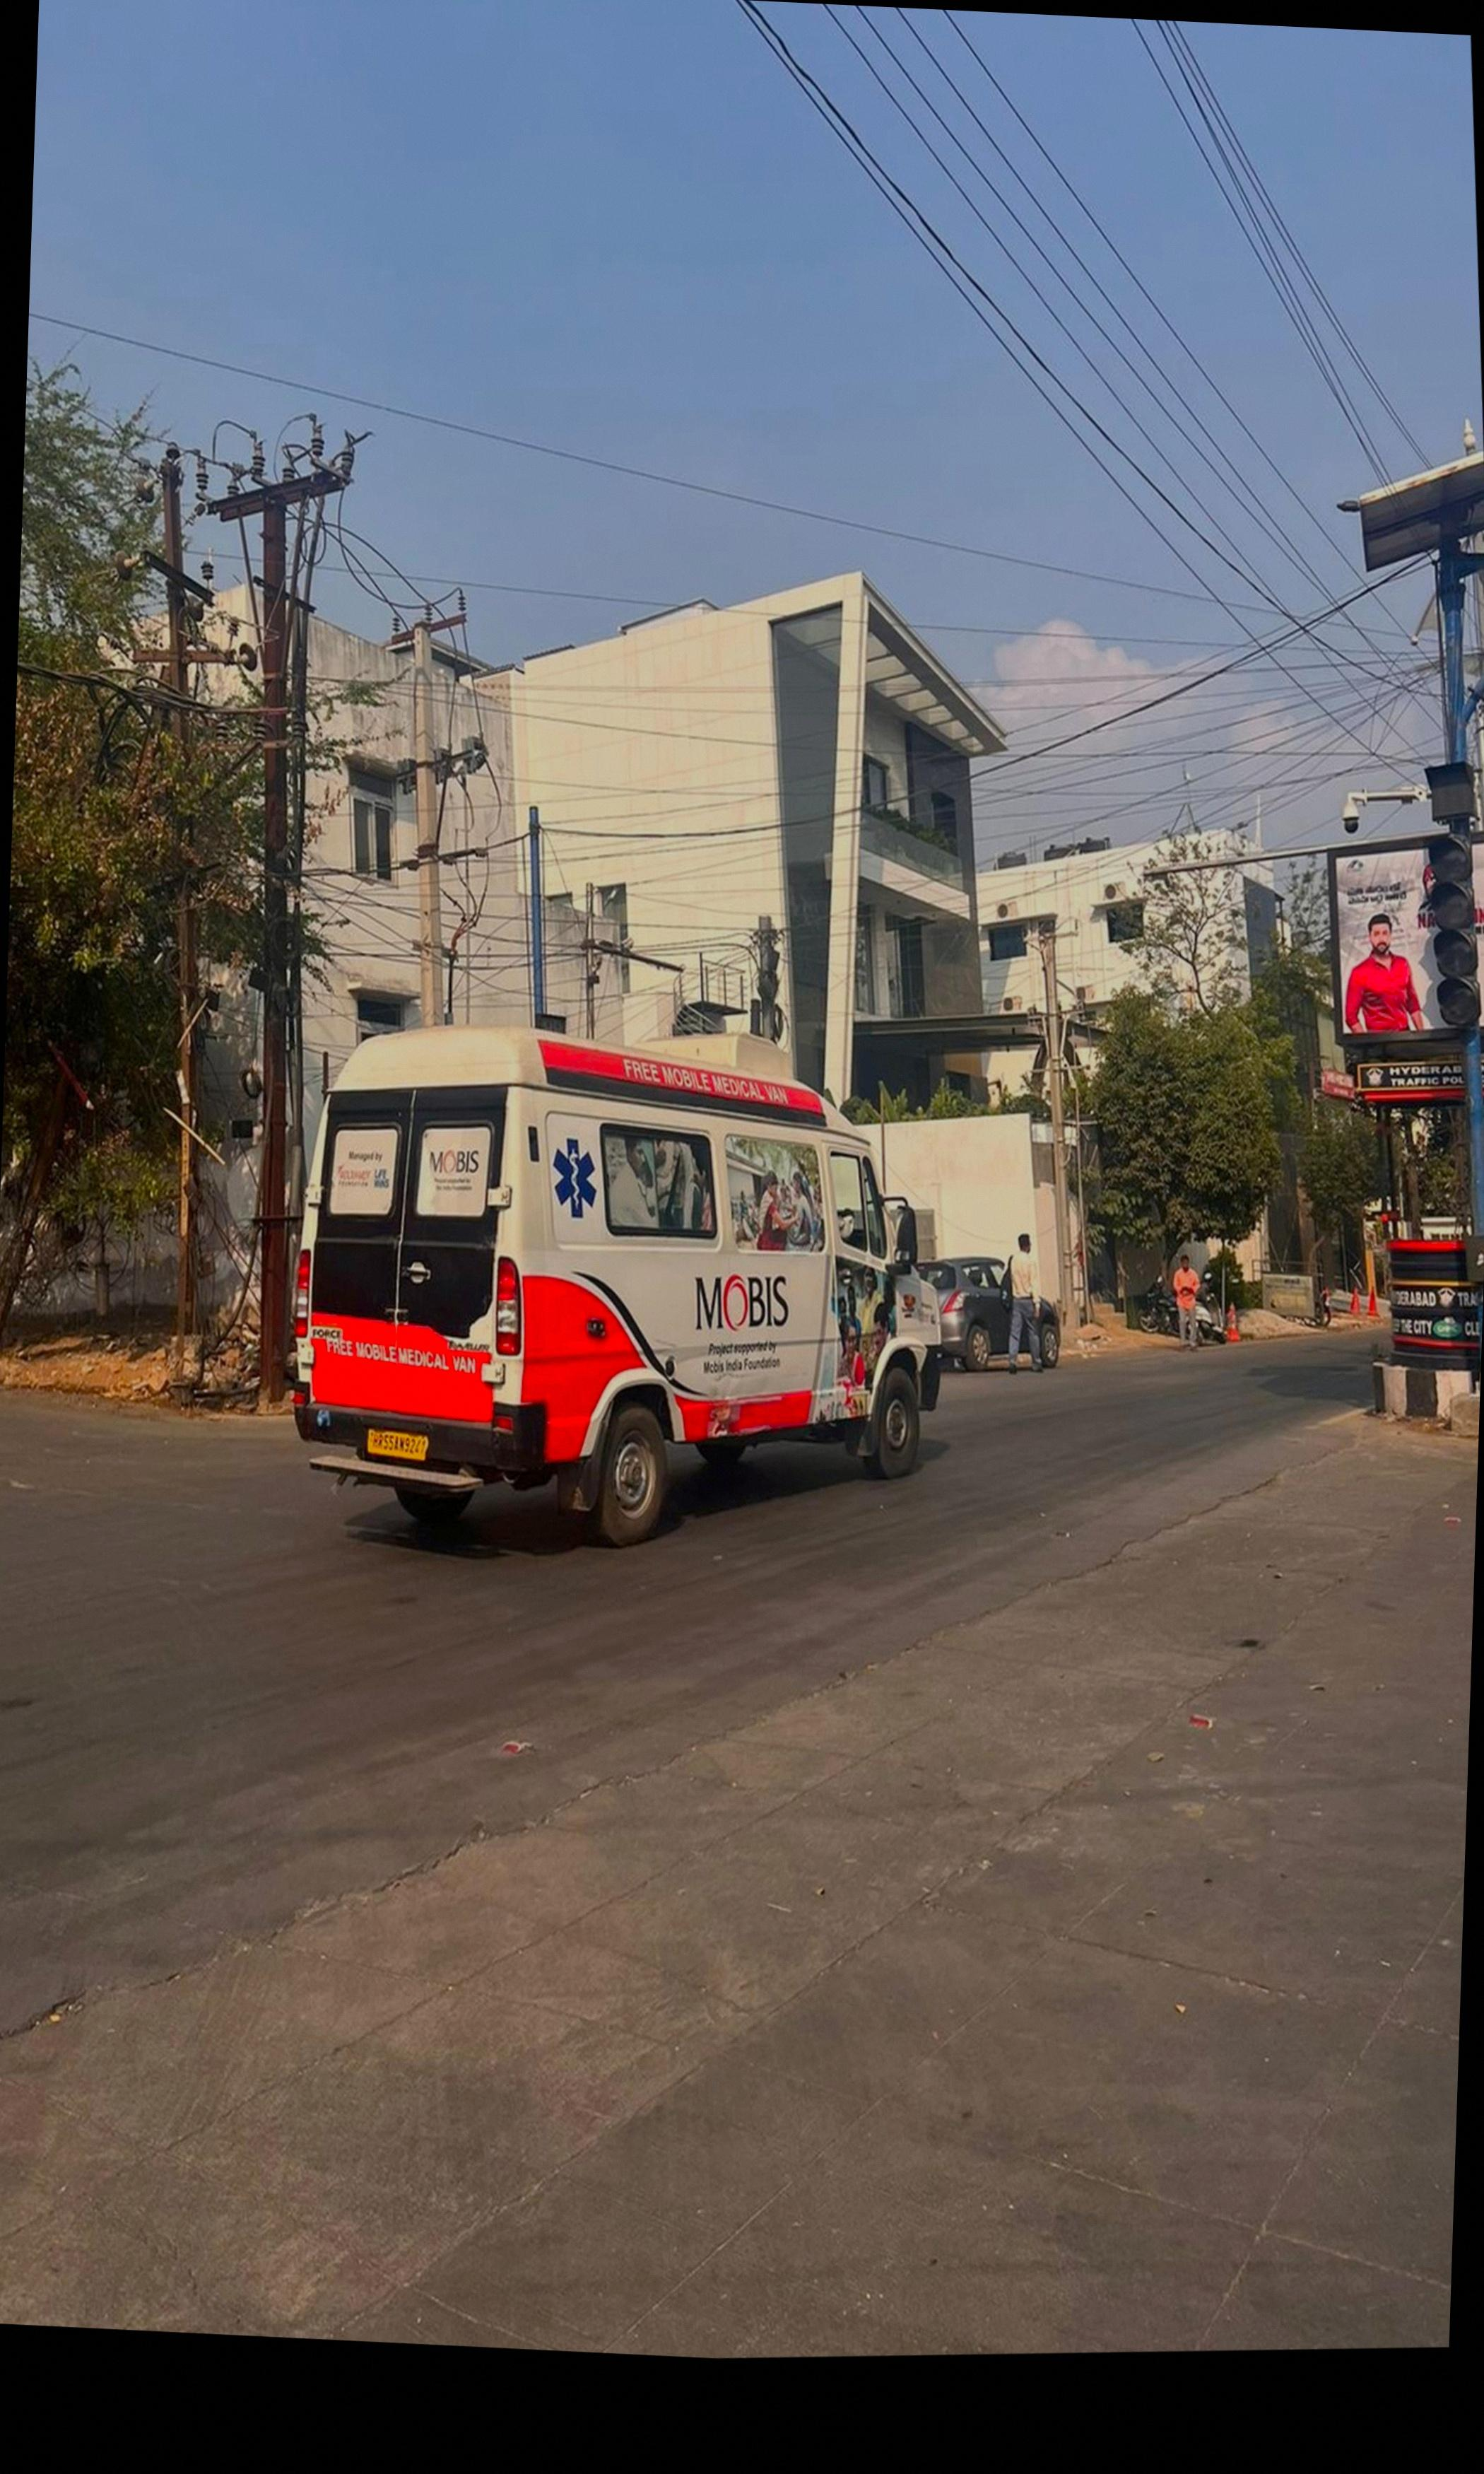ambulance: (293, 1032, 943, 1544)
